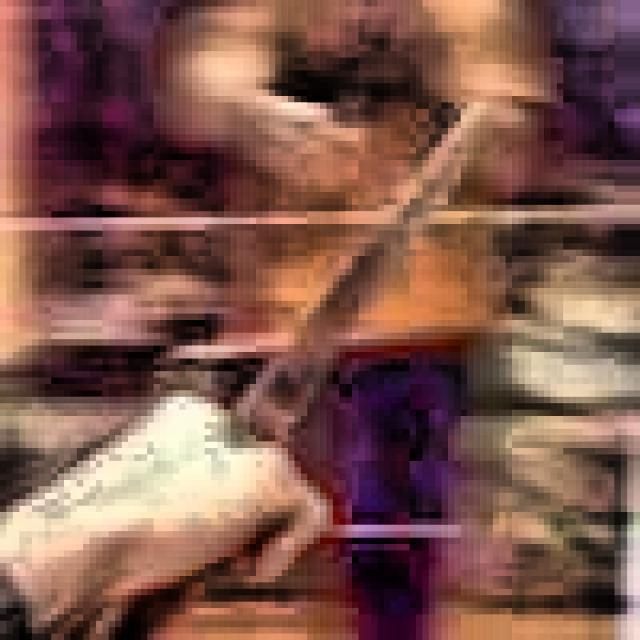knife: (225, 105, 479, 445)
